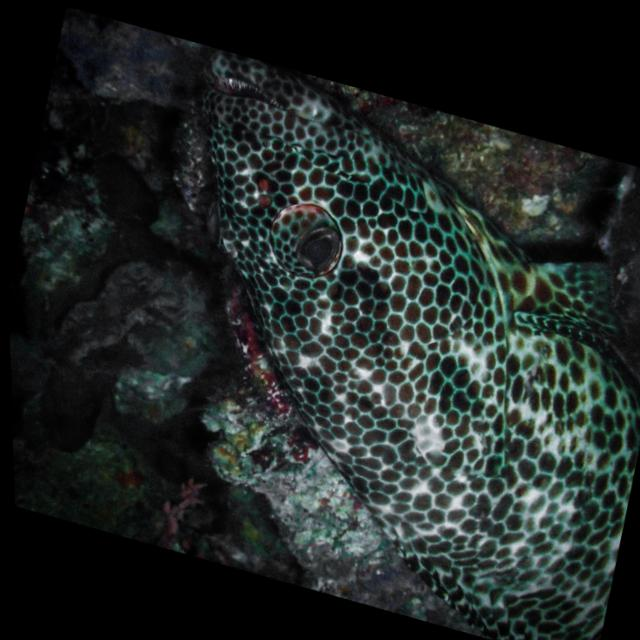Groupers: (92, 39, 640, 640)
